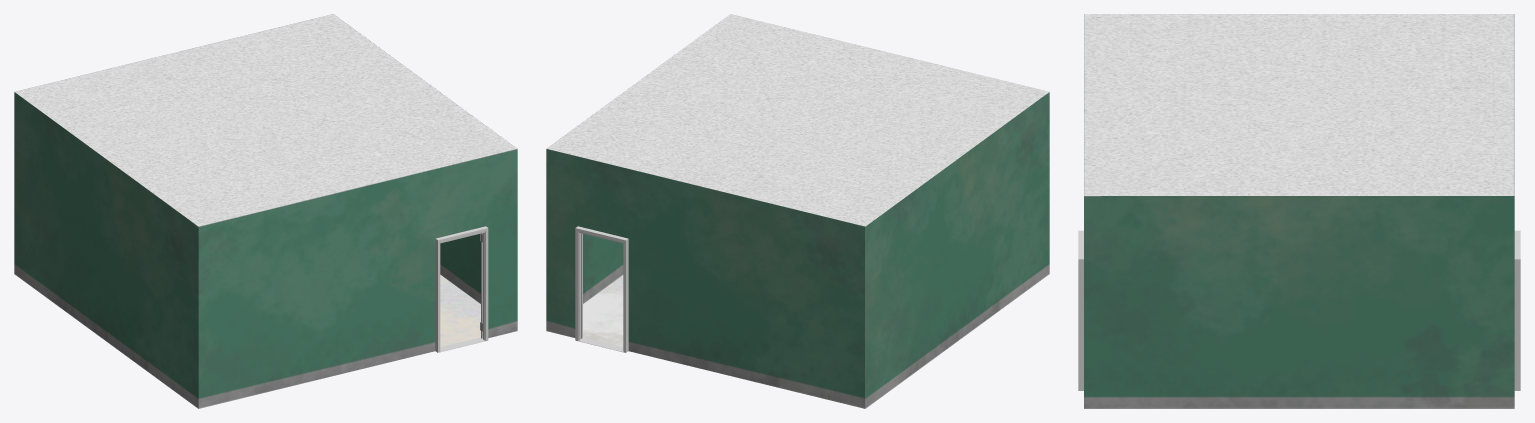
The model's file is Room04.fbx.
3 renders of one model, left to right at view 1: azimuth 30°, elevation 25°; view 2: azimuth 150°, elevation 25°; view 3: azimuth 270°, elevation 25°, orthographic. The views are drawn at different scales.
Visible parts, largest first — view 1: pCube33, polySurface33; view 2: pCube33, polySurface36; view 3: pCube33, polySurface36, polySurface33.
Part boxes in pixels (x1,y1,x2,y2): pCube33: (14, 14, 517, 408); polySurface33: (435, 226, 488, 352); pCube33: (546, 14, 1049, 408); polySurface36: (575, 226, 628, 352); pCube33: (1084, 14, 1514, 408); polySurface36: (1514, 230, 1520, 390); polySurface33: (1078, 230, 1083, 390).
Size of the model in its own units: 649 by 354 by 667.
Materials: 3 (1 with a texture image).
